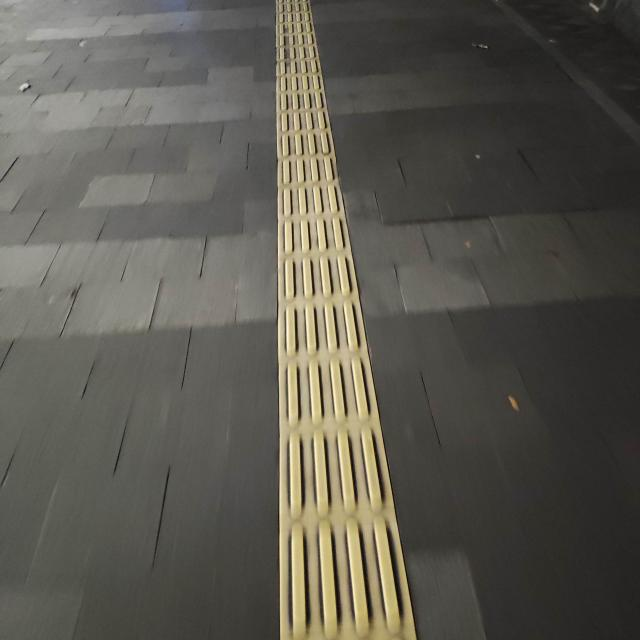lurus: (243, 19, 400, 640)
